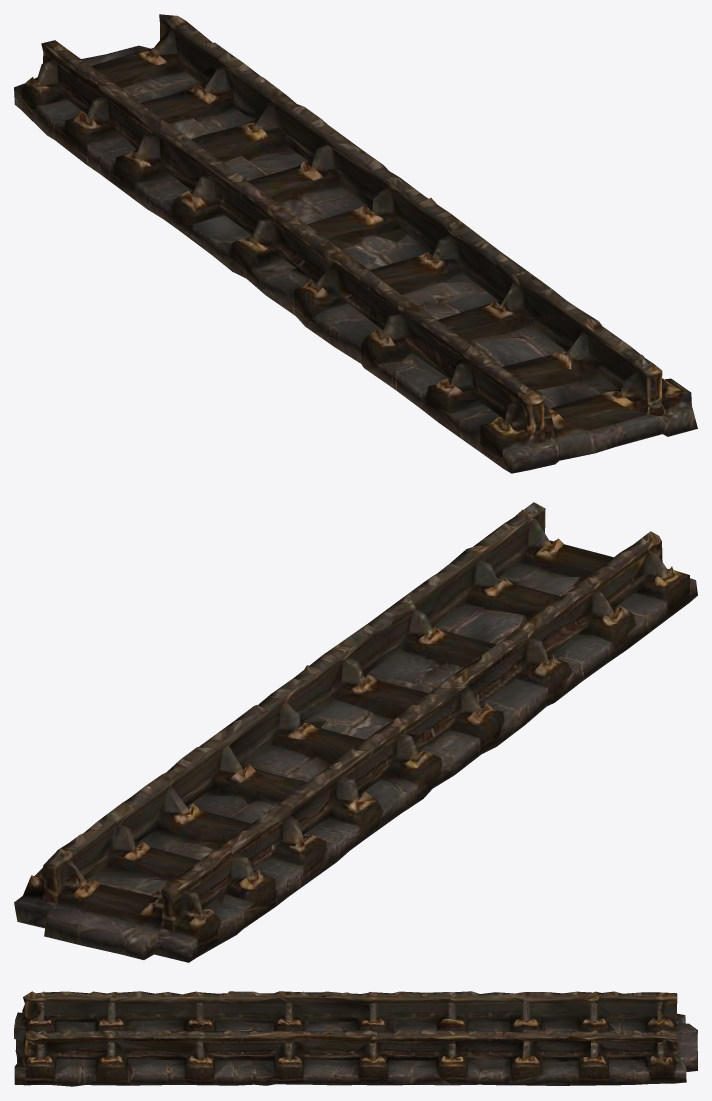
The model's file is floorrail.glb.
The picture shows the model from 3 angles, top to bottom: view 1: azimuth 30°, elevation 25°; view 2: azimuth 150°, elevation 25°; view 3: azimuth 270°, elevation 25°; orthographic projection. The views are drawn at different scales.
Visible parts, largest first — view 1: floorrail; view 2: floorrail; view 3: floorrail.
Boxes of the visible parts, bbox=[...] form: floorrail: bbox=[14, 14, 697, 473]; floorrail: bbox=[14, 502, 697, 962]; floorrail: bbox=[14, 991, 697, 1086].
Bounding box in the file's own units: 0.6486 × 0.2187 × 3.
1 material, 1 textured.
